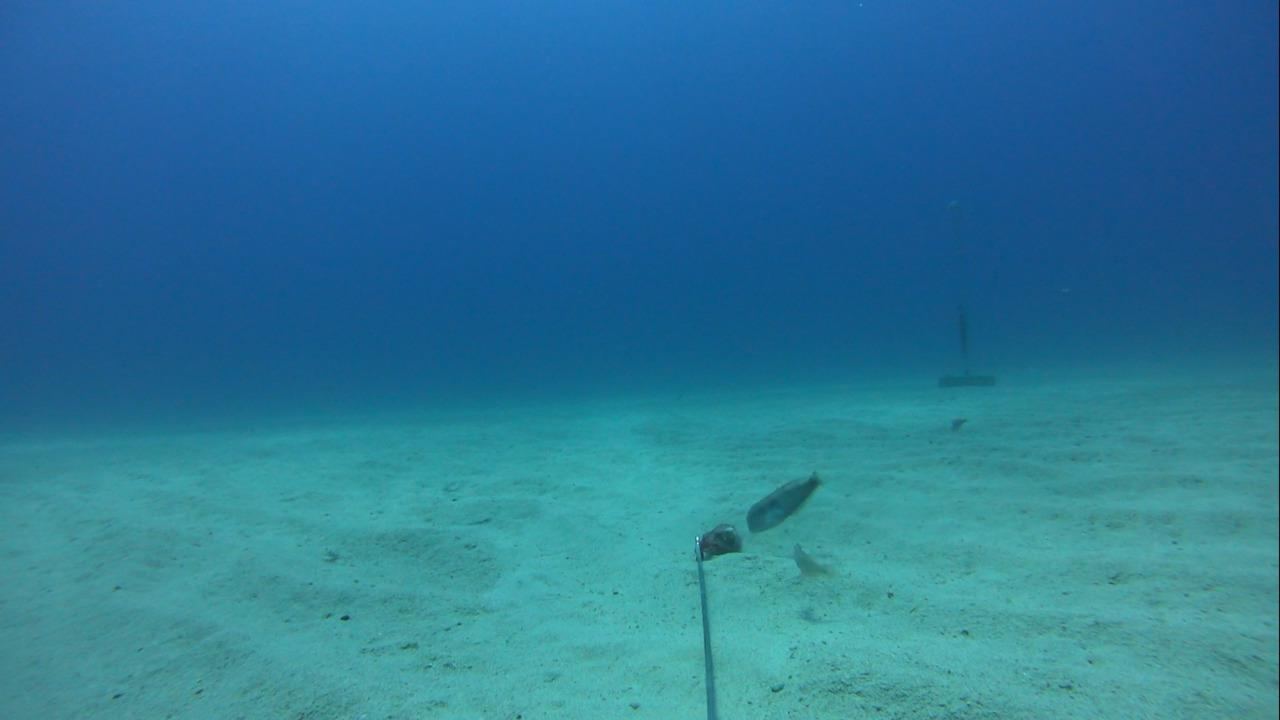raor: (740, 468, 832, 540), (775, 533, 830, 577)
